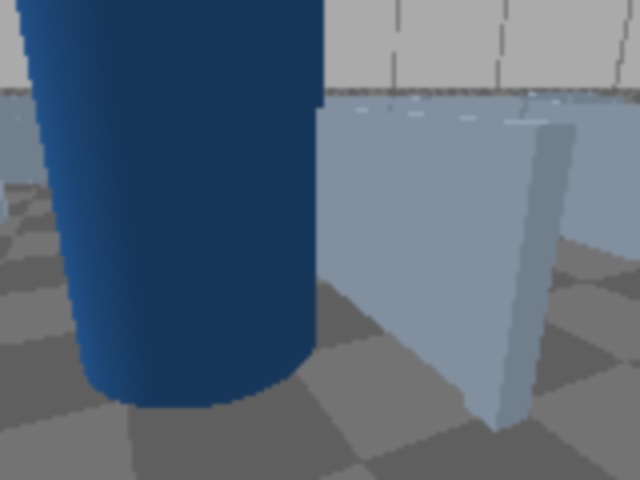person: (0, 0, 307, 401)
